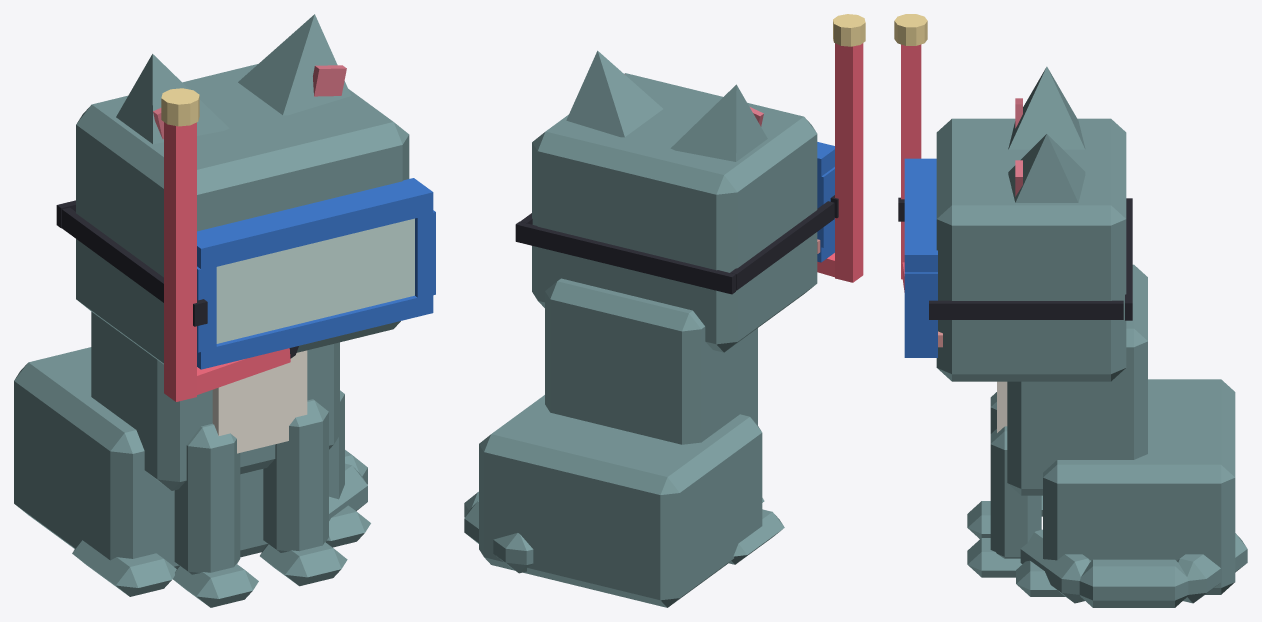
Rendered from CatCafe_Cat_Glimmer_Sit.glb.
3 views of the same model, side by side, from view 1: azimuth 30°, elevation 25°; view 2: azimuth 150°, elevation 25°; view 3: azimuth 270°, elevation 25° (orthographic). The views are drawn at different scales.
Visible parts, largest first — view 1: CatCafe_Cat_Glimmer_Sit_Body, CatCafe_Cat_Glimmer_Sit_Head, CatCafe_Cat_Glimmer_Sit_Prop, CatCafe_Cat_Glimmer_Sit_Prop_Glass, CatCafe_Cat_Glimmer_Sit_LegF2, CatCafe_Cat_Glimmer_Sit_LegF1, CatCafe_Cat_Glimmer_Sit_EarL, CatCafe_Cat_Glimmer_Sit_EarR, CatCafe_Cat_Glimmer_Sit_Tail; view 2: CatCafe_Cat_Glimmer_Sit_Body, CatCafe_Cat_Glimmer_Sit_Head, CatCafe_Cat_Glimmer_Sit_Prop, CatCafe_Cat_Glimmer_Sit_EarL, CatCafe_Cat_Glimmer_Sit_EarR, CatCafe_Cat_Glimmer_Sit_Tail; view 3: CatCafe_Cat_Glimmer_Sit_Body, CatCafe_Cat_Glimmer_Sit_Head, CatCafe_Cat_Glimmer_Sit_Prop, CatCafe_Cat_Glimmer_Sit_Tail, CatCafe_Cat_Glimmer_Sit_LegF1, CatCafe_Cat_Glimmer_Sit_EarL, CatCafe_Cat_Glimmer_Sit_EarR, CatCafe_Cat_Glimmer_Sit_LegF2.
Part boxes in pixels (box(x1,y1,x2,y2)): CatCafe_Cat_Glimmer_Sit_Body: box(14, 312, 370, 596); CatCafe_Cat_Glimmer_Sit_Head: box(76, 64, 409, 364); CatCafe_Cat_Glimmer_Sit_Prop: box(56, 88, 435, 401); CatCafe_Cat_Glimmer_Sit_Prop_Glass: box(216, 218, 414, 343); CatCafe_Cat_Glimmer_Sit_LegF2: box(173, 423, 258, 607); CatCafe_Cat_Glimmer_Sit_LegF1: box(260, 399, 347, 586); CatCafe_Cat_Glimmer_Sit_EarL: box(238, 14, 351, 115); CatCafe_Cat_Glimmer_Sit_EarR: box(116, 54, 229, 144); CatCafe_Cat_Glimmer_Sit_Tail: box(329, 450, 367, 520); CatCafe_Cat_Glimmer_Sit_Body: box(479, 278, 784, 607); CatCafe_Cat_Glimmer_Sit_Head: box(532, 73, 820, 352); CatCafe_Cat_Glimmer_Sit_Prop: box(515, 14, 865, 294); CatCafe_Cat_Glimmer_Sit_EarL: box(566, 50, 662, 137); CatCafe_Cat_Glimmer_Sit_EarR: box(670, 84, 767, 161); CatCafe_Cat_Glimmer_Sit_Tail: box(464, 491, 533, 573); CatCafe_Cat_Glimmer_Sit_Body: box(997, 264, 1235, 596); CatCafe_Cat_Glimmer_Sit_Head: box(936, 118, 1126, 381); CatCafe_Cat_Glimmer_Sit_Prop: box(894, 14, 1132, 357); CatCafe_Cat_Glimmer_Sit_Tail: box(1020, 529, 1247, 607); CatCafe_Cat_Glimmer_Sit_LegF1: box(967, 426, 1041, 577); CatCafe_Cat_Glimmer_Sit_EarL: box(1008, 134, 1085, 202); CatCafe_Cat_Glimmer_Sit_EarR: box(1008, 66, 1085, 149); CatCafe_Cat_Glimmer_Sit_LegF2: box(967, 392, 996, 538).
Bounding box in the file's own units: 1.13 × 1.95 × 1.31.
Materials: 1 (1 with a texture image).
